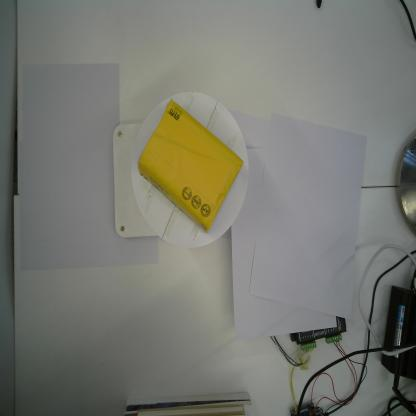Tissue: (136, 99, 244, 236)
